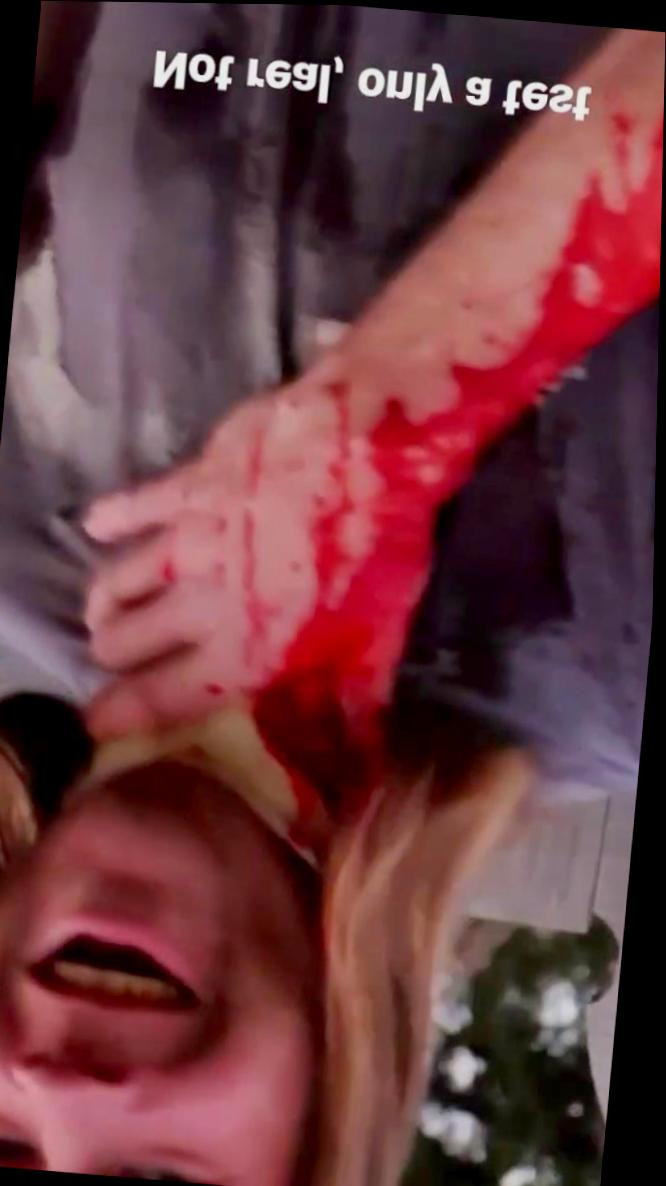Fire: (246, 105, 664, 806)
